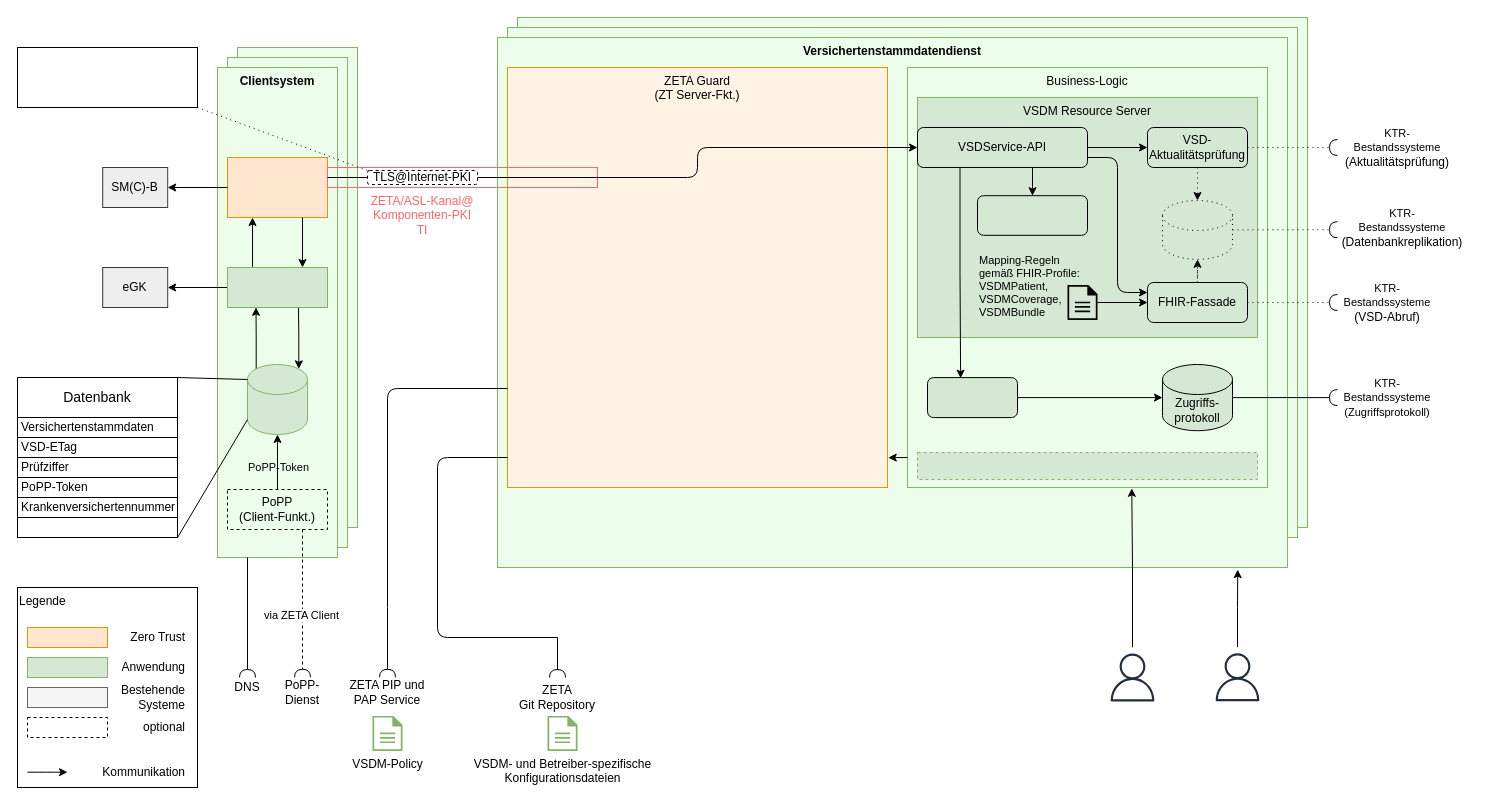
Some shapes in this 1485 by 805 pixel diagram are drawn without their labels. Each missing label, with the centre of its shape:
"Anbieter VSDD" goes at (1237,676).
"DB" goes at (277,399).
"Erstellung Prüfzifffer" goes at (1032,215).
"Hersteller VSDD" goes at (1132,677).
"Institutionskennung KTR" goes at (97,527).
"Monitoring" goes at (1087,466).
"Optionen : TLS kann am Ingress & Egress ODER HTTP-Proxy terminieren." goes at (107,77).
"VSD-DB" goes at (1197,229).
"VSDM (Client-Funkt.)" goes at (277,287).
"ZETA Client (ZT Client-Fkt.)" goes at (277,187).
"Zugriffs-protokollierung" goes at (972,397).
